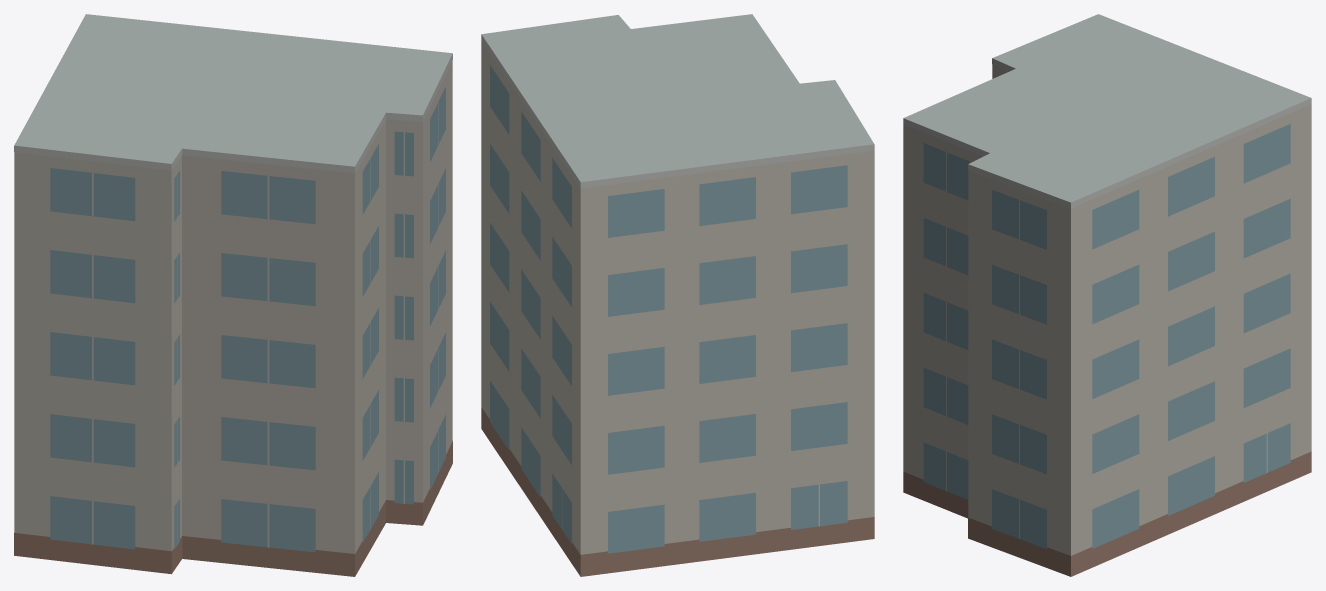
Rendered from survey-upis-32886573.glb.
3 views of the same model, side by side, from view 1: azimuth 30°, elevation 25°; view 2: azimuth 150°, elevation 25°; view 3: azimuth 270°, elevation 25° (orthographic). The views are drawn at different scales.
Parts seen in each view (by area): view 1: survey-upis-32886573.tmp; view 2: survey-upis-32886573.tmp; view 3: survey-upis-32886573.tmp.
Boxes of the visible parts, x1,y1,x2,y2 form: survey-upis-32886573.tmp: [14, 14, 452, 576]; survey-upis-32886573.tmp: [481, 14, 874, 576]; survey-upis-32886573.tmp: [903, 14, 1311, 576].
Bounding box in the file's own units: 16.33 × 15.1 × 14.94.
